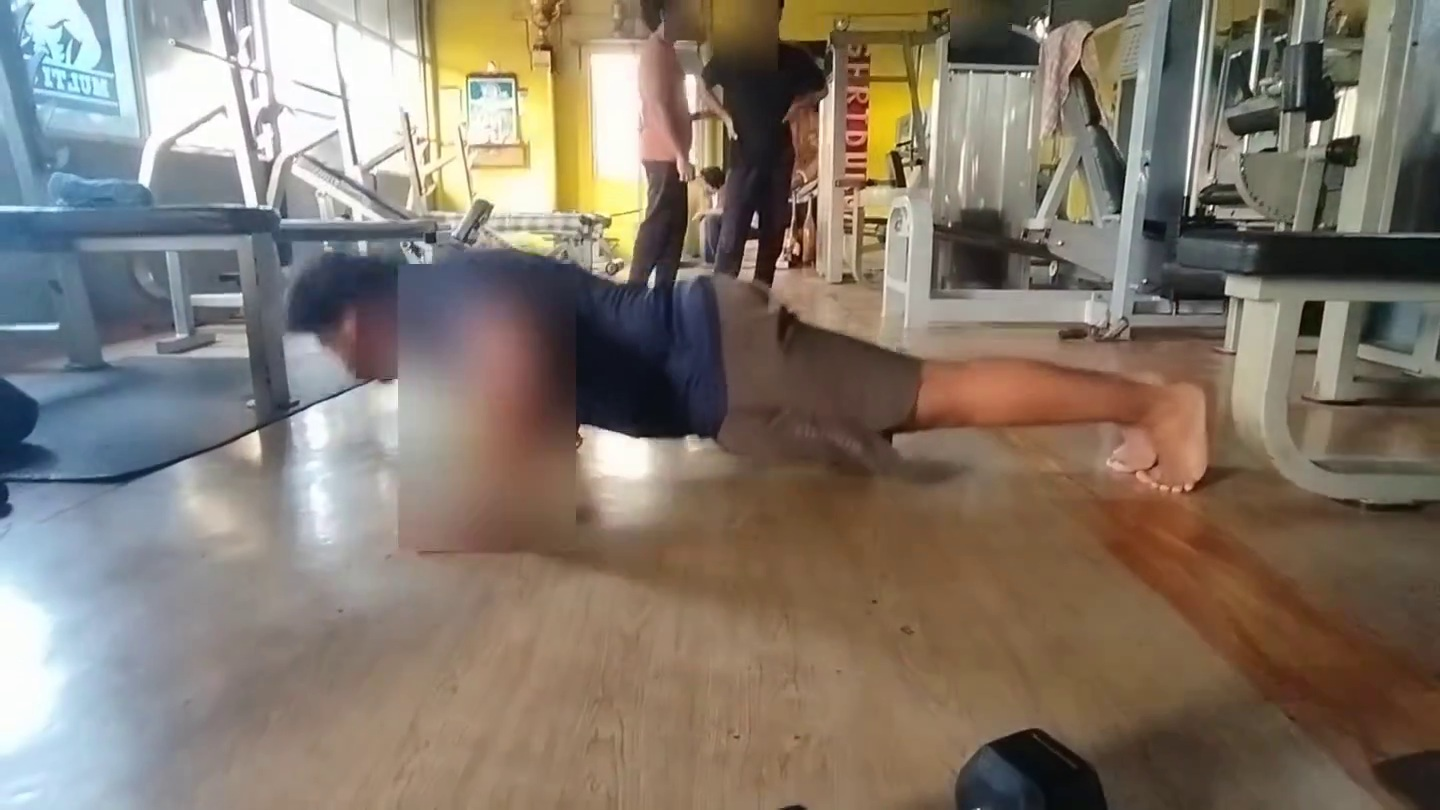push_up_correct: (259, 207, 1269, 583)
